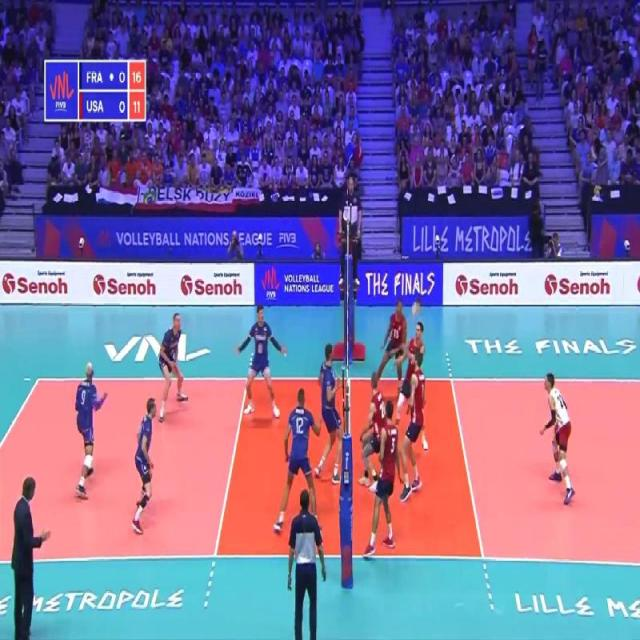volleyball: (412, 301, 419, 317)
